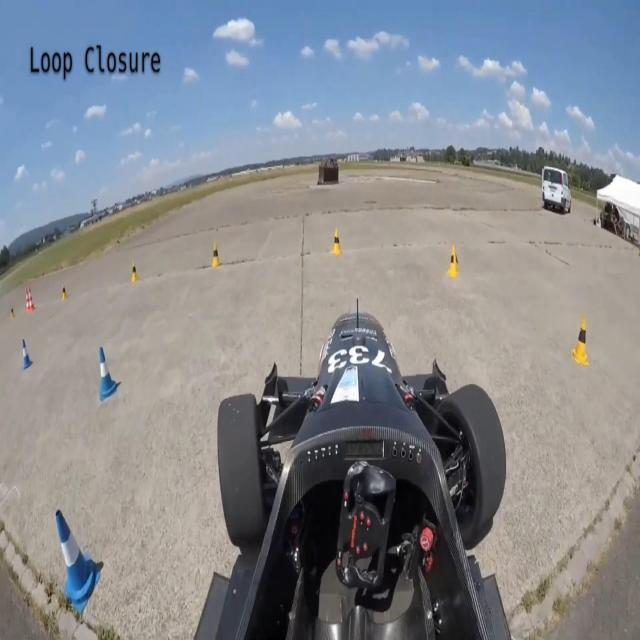blue_cone: (56, 507, 101, 615), (99, 345, 117, 402), (22, 338, 34, 369)
large_orange_cone: (29, 287, 35, 313)
yellow_cone: (572, 318, 588, 365), (448, 245, 461, 278), (332, 227, 342, 256), (212, 243, 221, 268), (131, 262, 138, 283)
